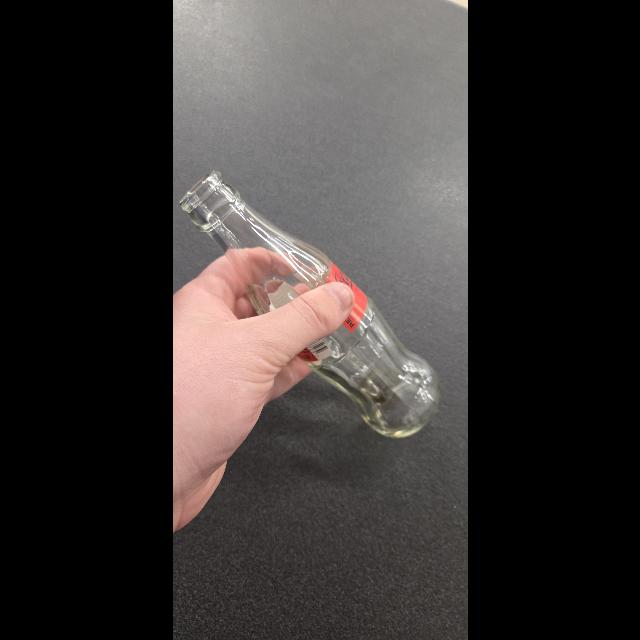Glass: (180, 168, 440, 438)
